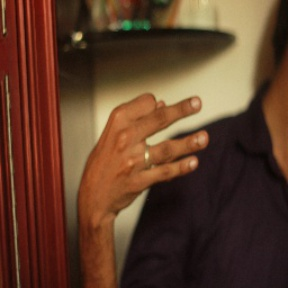K: (74, 94, 211, 211)
